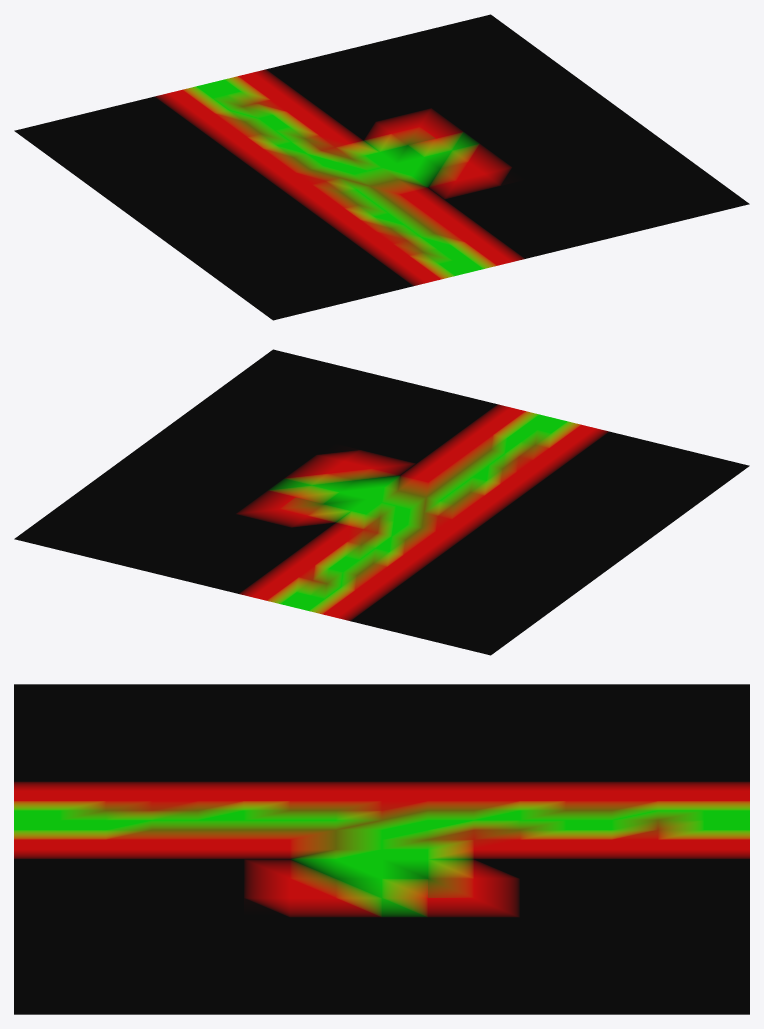
File: Section_WayLineCamp01_Forest_Terrain.fbx
The picture shows the model from 3 angles, top to bottom: view 1: azimuth 30°, elevation 25°; view 2: azimuth 150°, elevation 25°; view 3: azimuth 270°, elevation 25°; orthographic projection. The views are drawn at different scales.
Visible parts, largest first — view 1: Section_WayLineCamp01_Forest_Terrain; view 2: Section_WayLineCamp01_Forest_Terrain; view 3: Section_WayLineCamp01_Forest_Terrain.
Part boxes in pixels (x1,y1,x2,y2): Section_WayLineCamp01_Forest_Terrain: (14, 14, 749, 320); Section_WayLineCamp01_Forest_Terrain: (14, 349, 749, 655); Section_WayLineCamp01_Forest_Terrain: (14, 684, 749, 1014).
Size of the model in its own units: 8500 by 0 by 8000.
